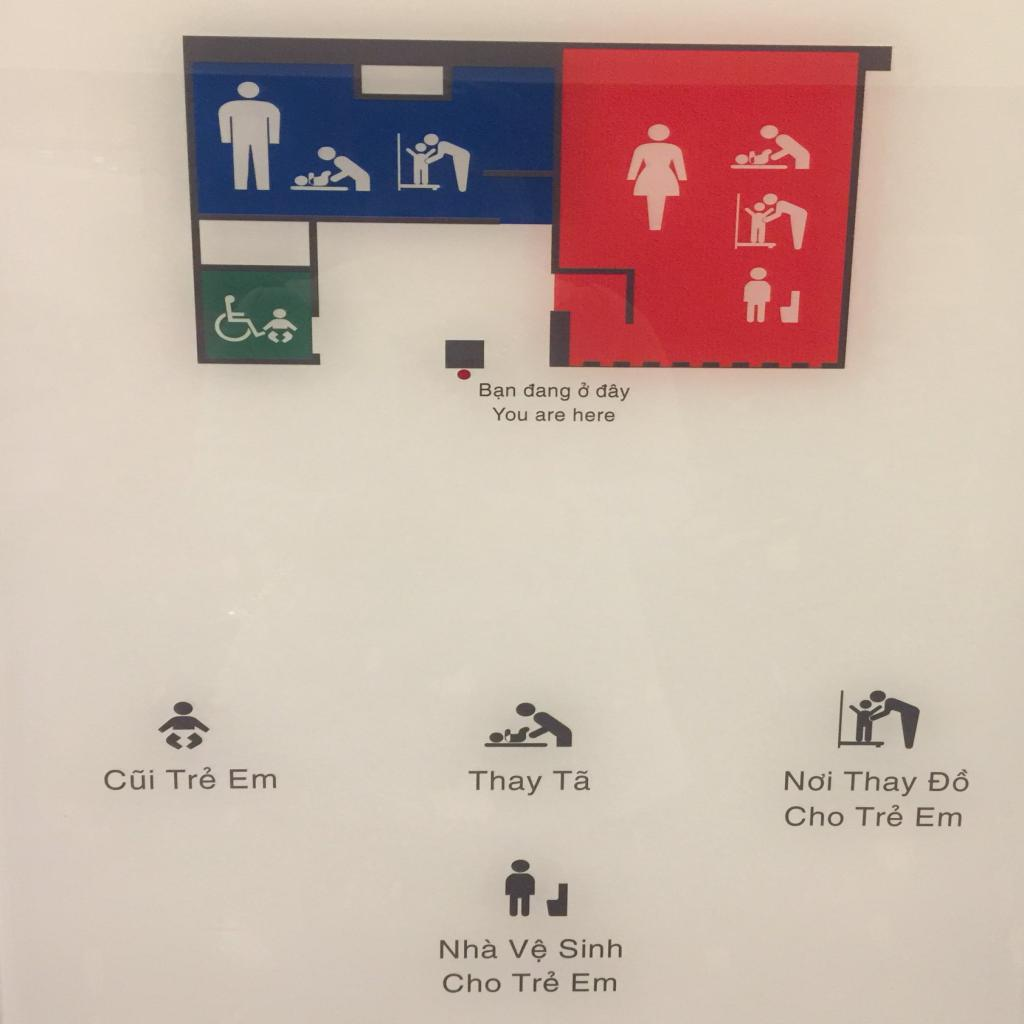text: (464, 769, 546, 798), (840, 770, 922, 798), (558, 936, 625, 962), (99, 764, 158, 792), (441, 970, 504, 996), (437, 936, 501, 961), (783, 804, 846, 828), (163, 766, 219, 792), (853, 804, 906, 829), (780, 769, 834, 793), (226, 767, 279, 791), (926, 767, 971, 795), (508, 970, 560, 994), (913, 806, 966, 829), (508, 938, 549, 963), (550, 768, 592, 792), (522, 382, 572, 402), (594, 382, 634, 404), (477, 380, 517, 401), (571, 406, 617, 423), (488, 405, 530, 423), (532, 408, 566, 424), (576, 381, 592, 399)
